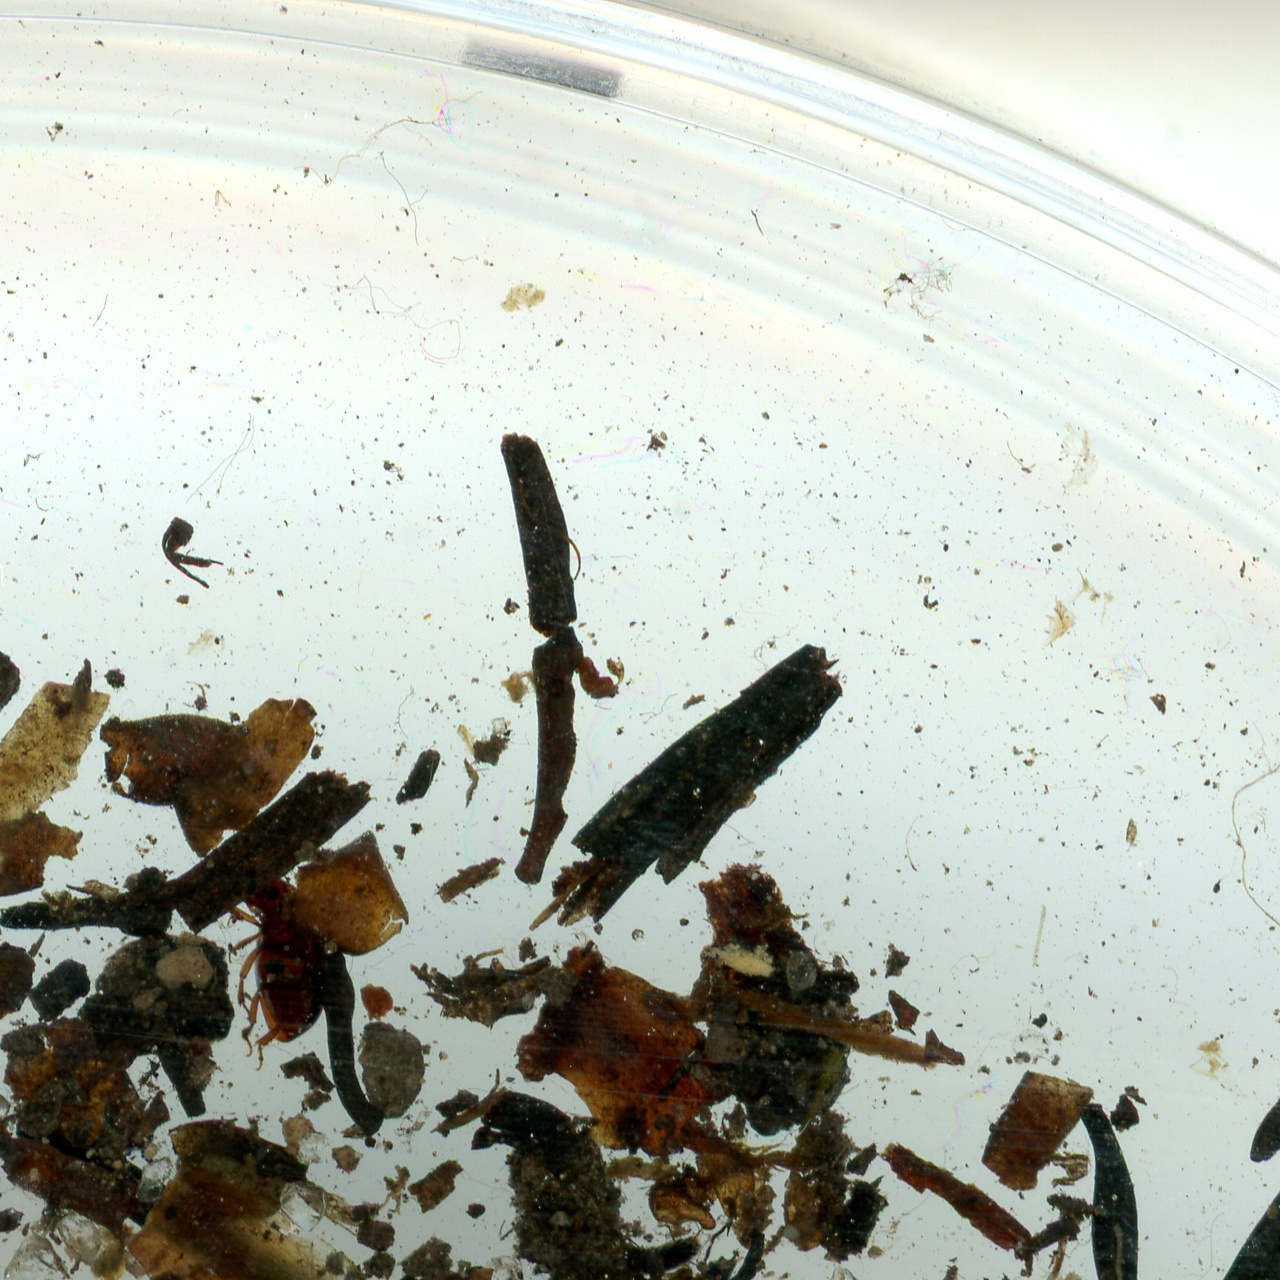arthropod: (224, 872, 327, 1078)
